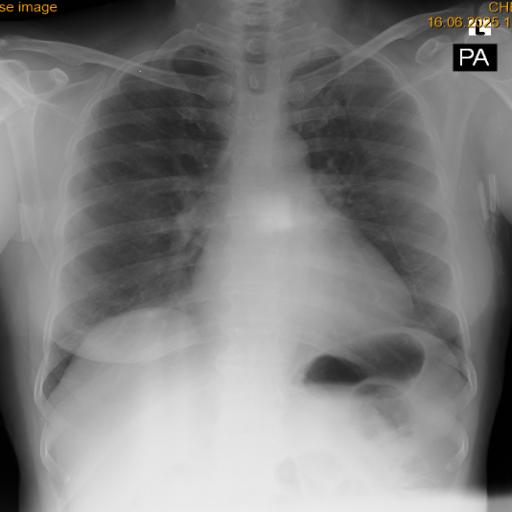kardiomegali: (31, 18, 479, 402)
